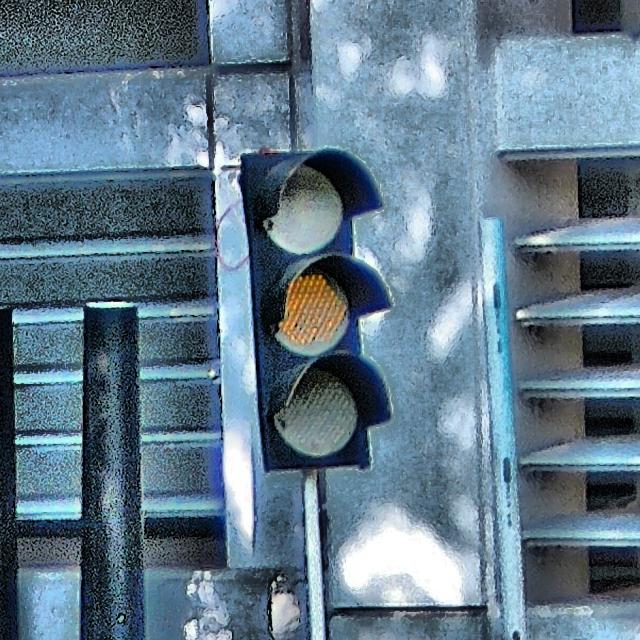yellow: (241, 150, 391, 472)
